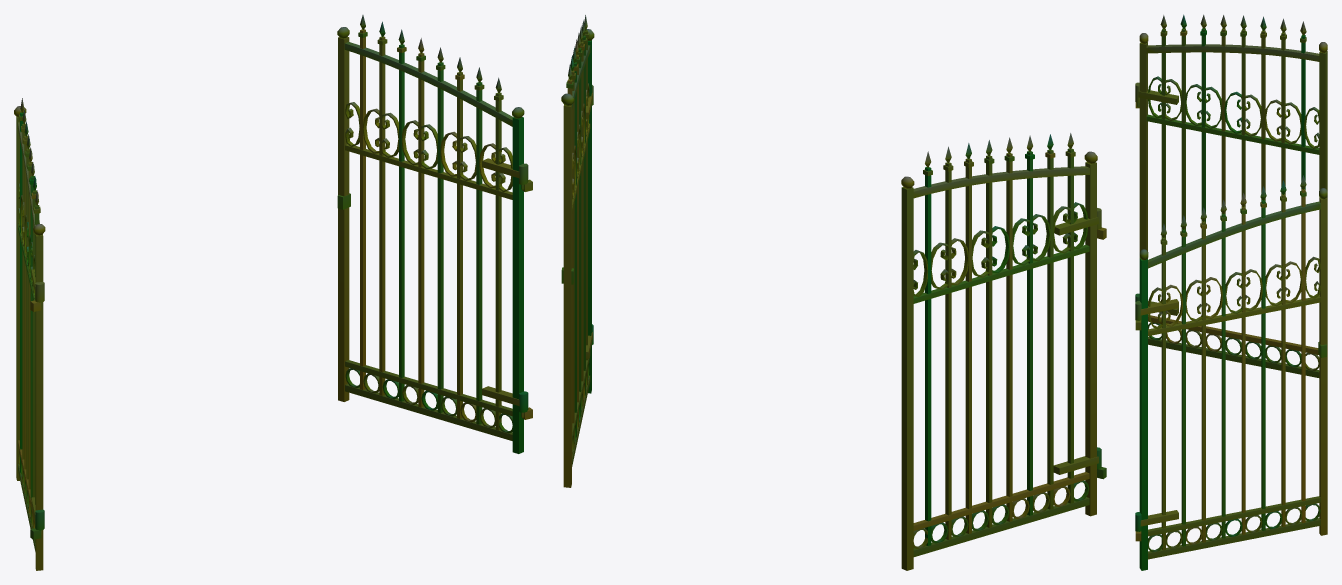
The model's file is earth_gate.glb.
3 views of the same model, side by side, from view 1: azimuth 30°, elevation 25°; view 2: azimuth 150°, elevation 25°; view 3: azimuth 270°, elevation 25° (orthographic). The views are drawn at different scales.
Visible parts, largest first — view 1: Garden_IronGate_Double_Open_LOD0; view 2: Garden_IronGate_Double_Open_LOD0; view 3: Garden_IronGate_Double_Open_LOD0.
Part boxes in pixels (x1,y1,x2,y2): Garden_IronGate_Double_Open_LOD0: (14, 15, 532, 570); Garden_IronGate_Double_Open_LOD0: (561, 15, 1106, 570); Garden_IronGate_Double_Open_LOD0: (1135, 14, 1327, 570).
Bounding box in the file's own units: 2.8 × 2.1 × 1.01.
